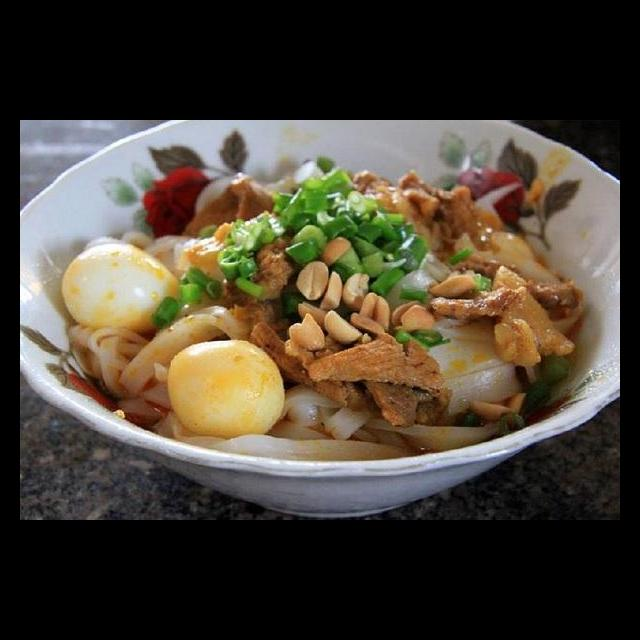mi: (144, 380, 508, 467), (374, 251, 524, 418), (63, 302, 253, 423)
thit heo: (423, 251, 586, 369), (281, 326, 456, 430), (343, 163, 505, 264), (249, 318, 380, 414), (175, 171, 277, 243), (215, 229, 300, 308)
trung: (165, 337, 287, 442), (58, 239, 186, 338)
